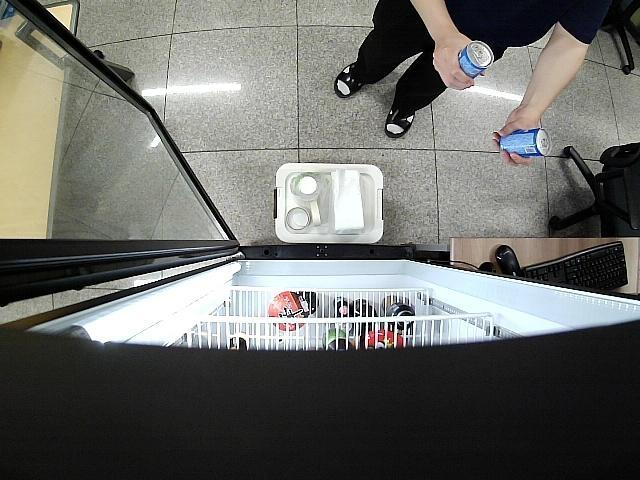15_letsbe: (499, 126, 552, 158), (459, 39, 494, 77)
